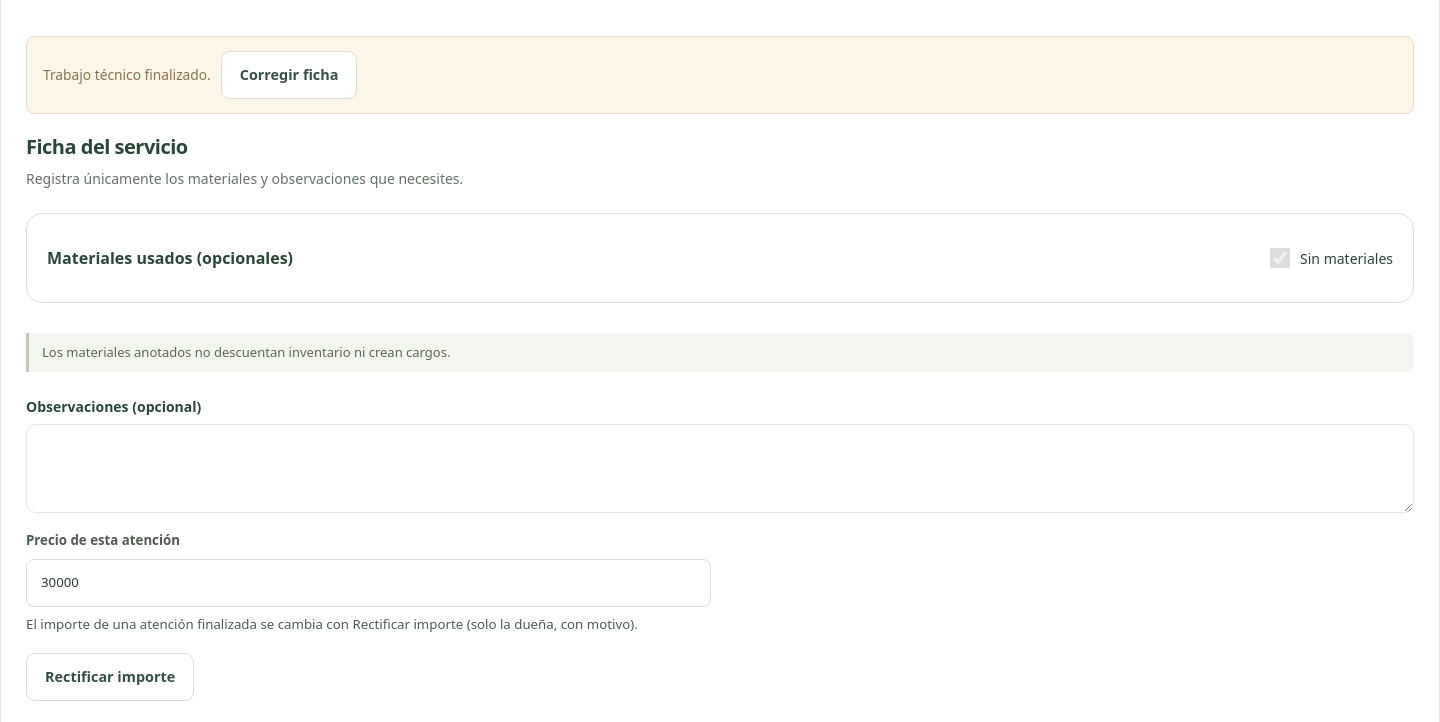
mantiene la corrección tras un error y la cierra al confirmar el reintento
The width and height of the screenshot is (1440, 722).
Check: the text box labelled "Observaciones (opcional)" is shown, box [26, 424, 1414, 513]
Click the button "Corregir ficha". click: (289, 75)
box: [221, 51, 357, 99]
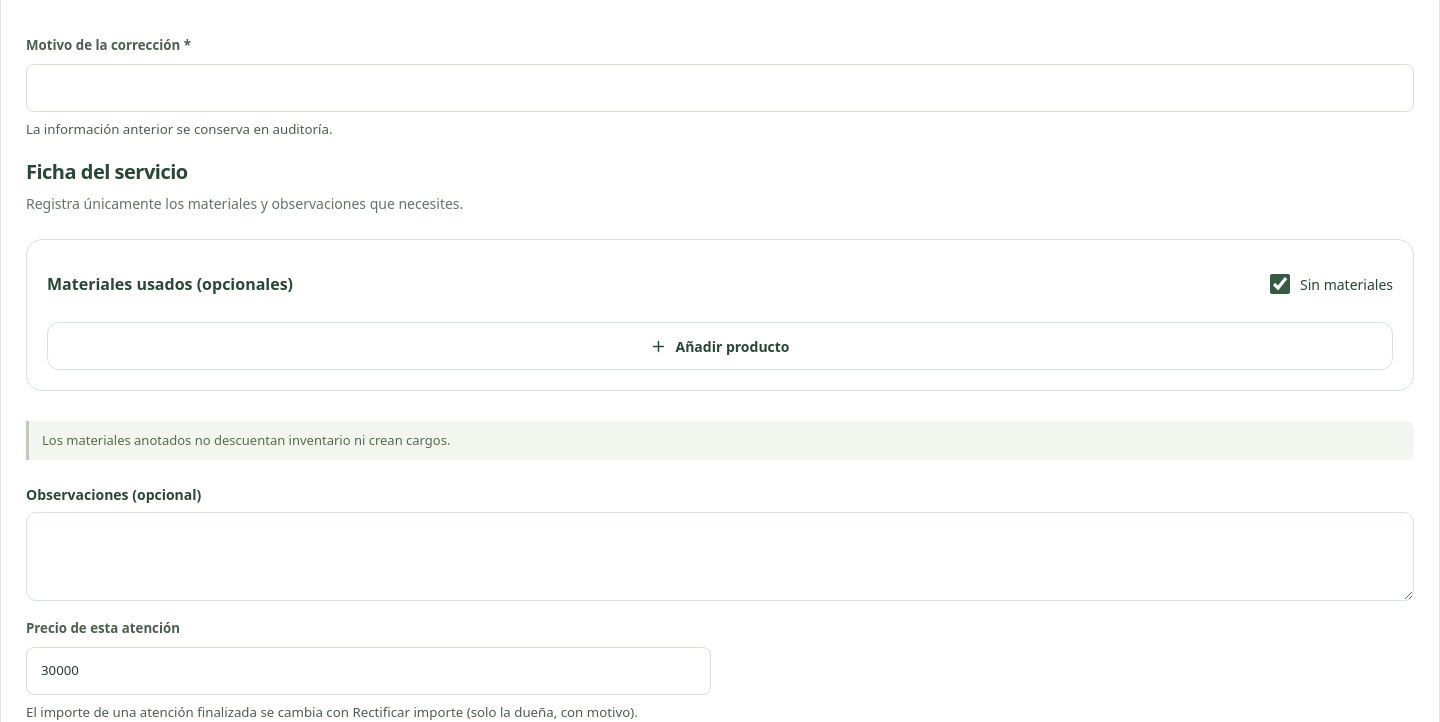
Type "Ajustar observaciones" into the field labelled "Motivo de la corrección". click: (720, 88)
box: [26, 64, 1414, 112]
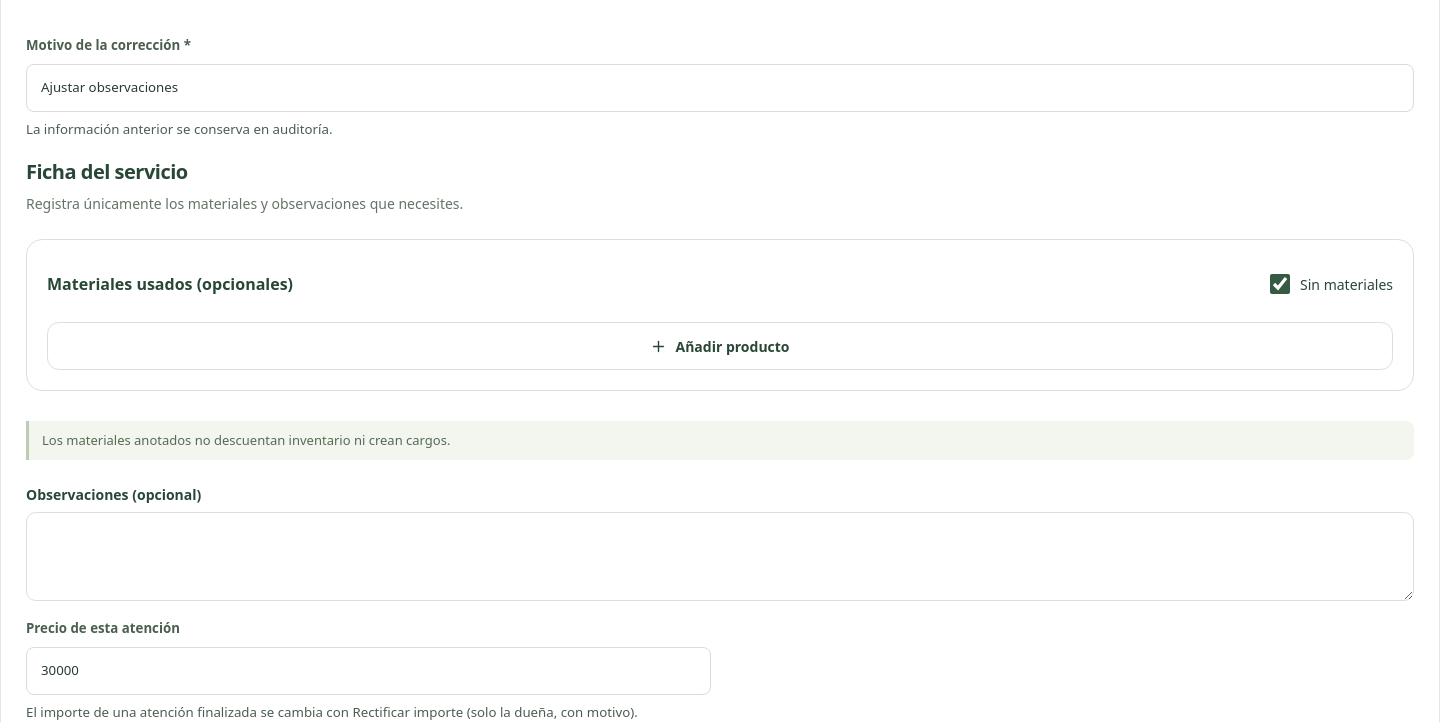
Type "Corrección guardada" into the text box labelled "Observaciones (opcional)". click: (720, 556)
box: [26, 512, 1414, 601]
(page scrolled)
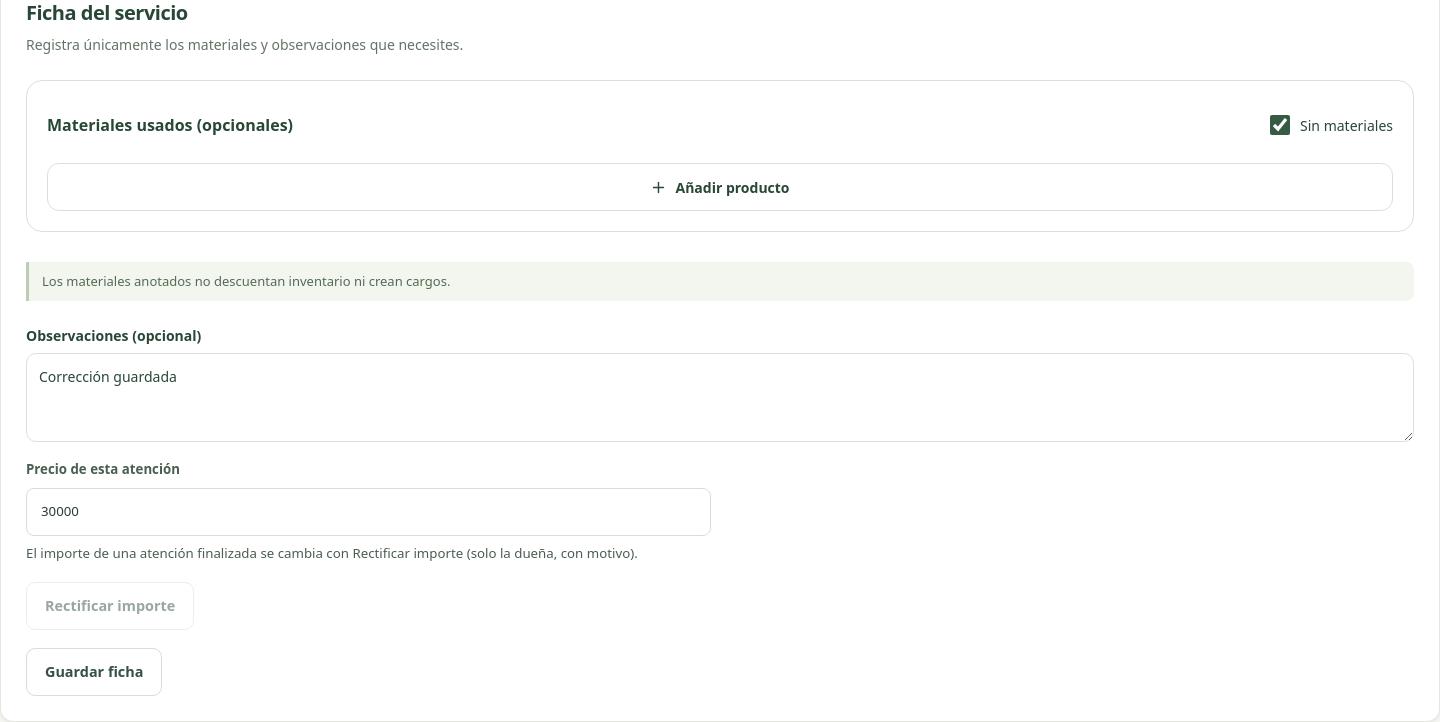
Click the button "Guardar ficha". click: (94, 672)
box: [26, 648, 162, 696]
(page scrolled)
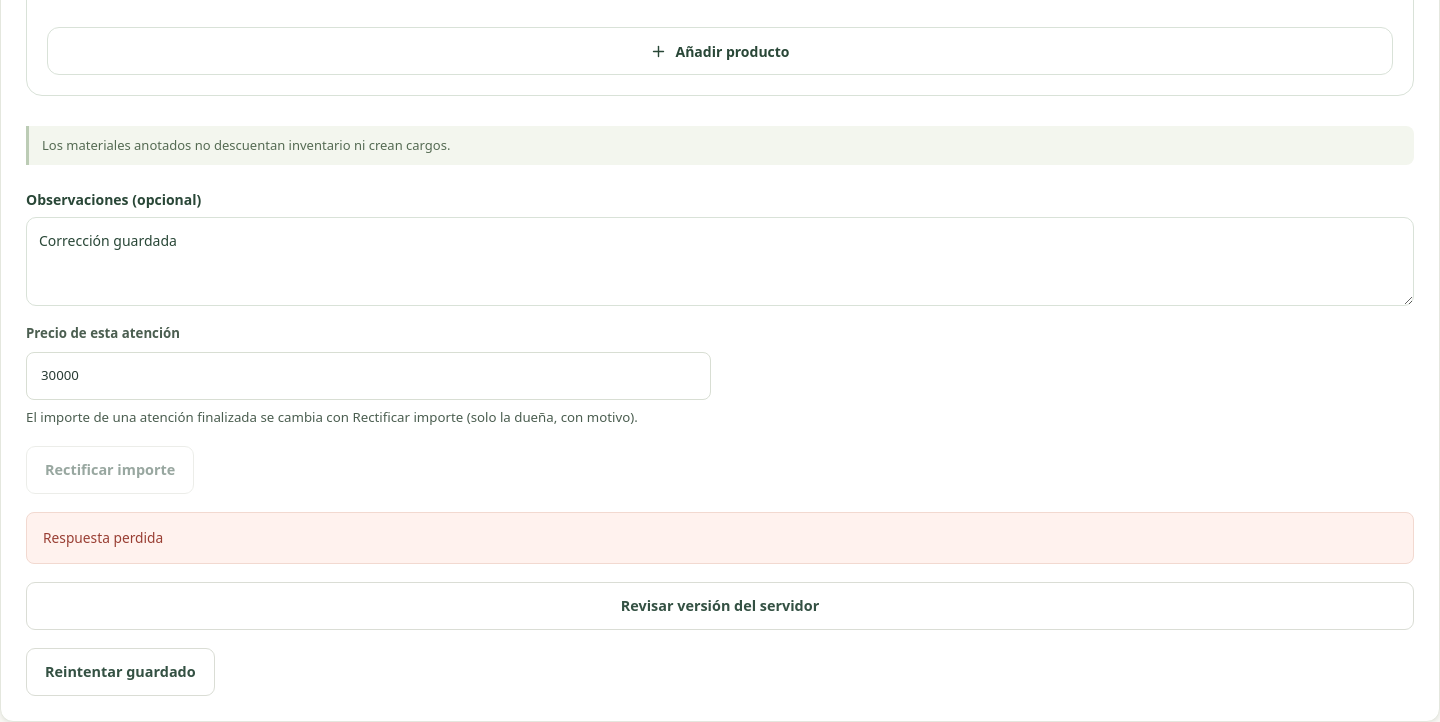
Check: the text box labelled "Observaciones (opcional)" is enabled, box [26, 217, 1414, 306]
Click the button "Reintentar guardado". click: (120, 672)
box: [26, 648, 215, 696]
(page scrolled)
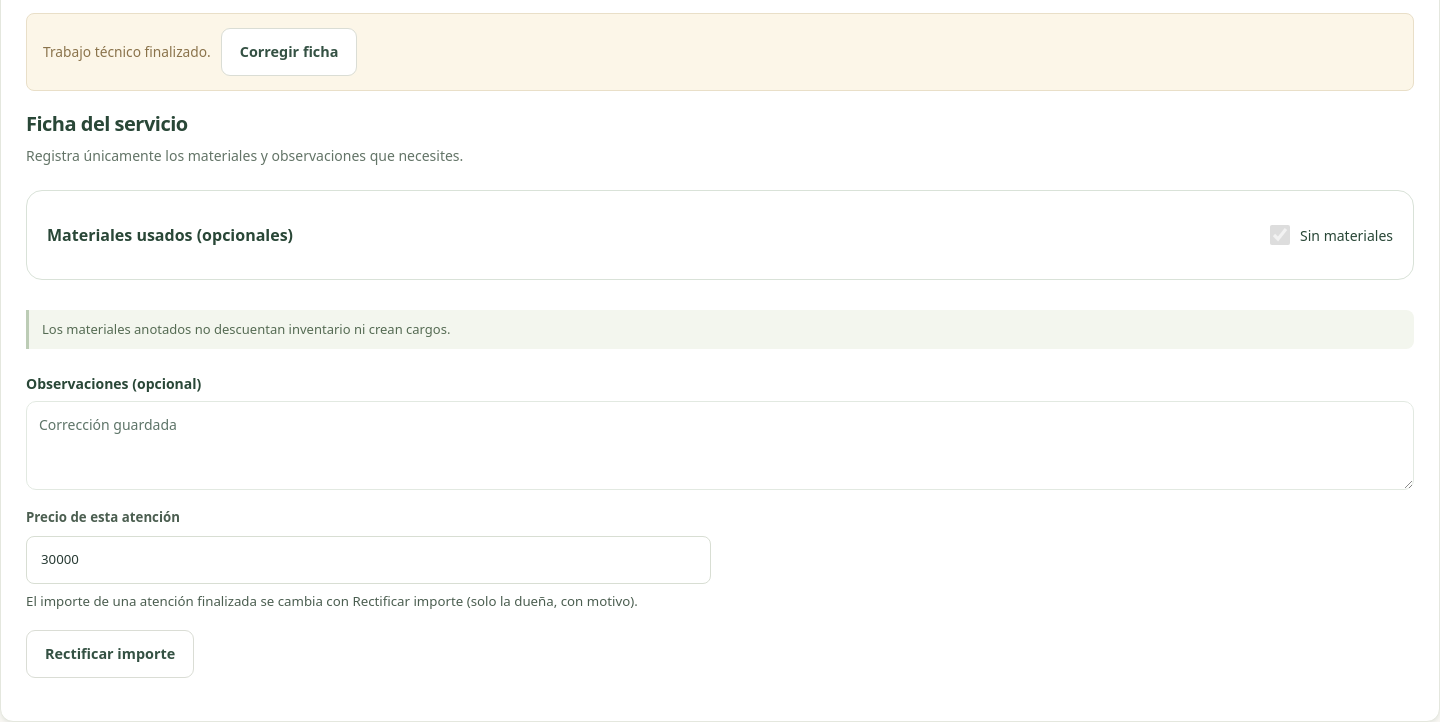
Check: the button "Corregir ficha" is shown, box [221, 28, 357, 76]
